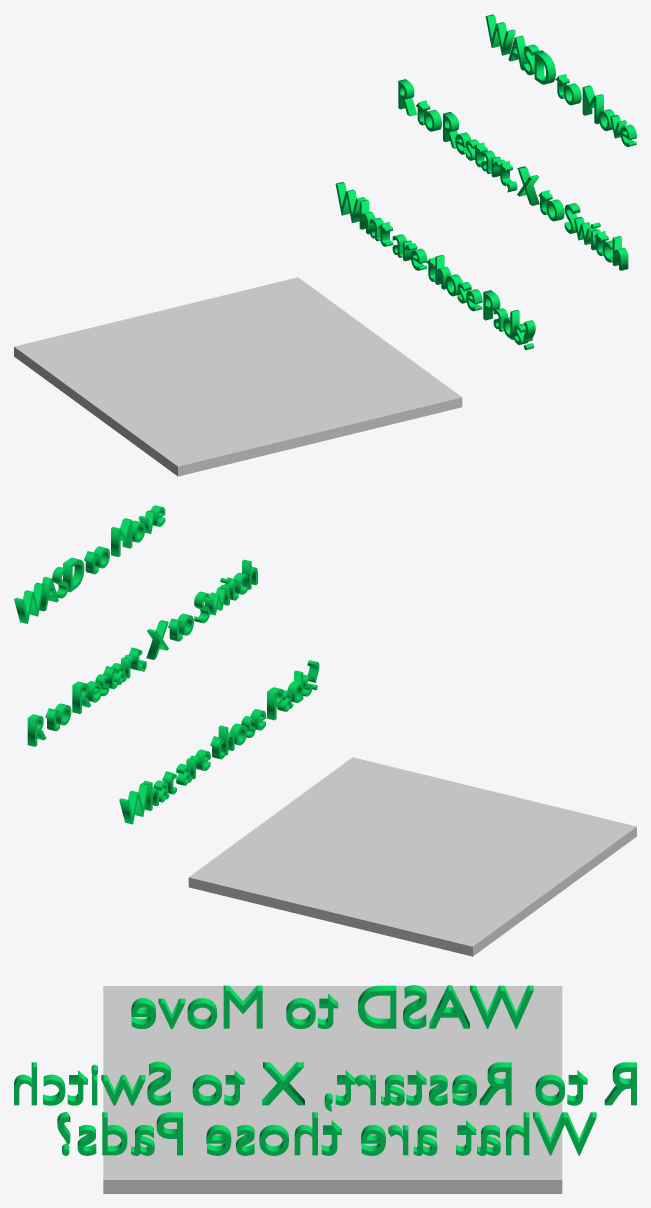
The model's file is level0-Vvty7H70.glb.
3 renders of one model, top to bottom at view 1: azimuth 30°, elevation 25°; view 2: azimuth 150°, elevation 25°; view 3: azimuth 270°, elevation 25°, orthographic. The views are drawn at different scales.
Parts seen in each view (by area): view 1: Cube, Text.002_X, Text.001_X, Text_X; view 2: Cube, Text.002_X, Text.001_X, Text_X; view 3: Cube, Text.002_X, Text.001_X, Text_X.
Boxes of the visible parts, x1=… form: Cube: x1=14, y1=277, x2=462, y2=476; Text.002_X: x1=398, y1=79, x2=628, y2=270; Text.001_X: x1=335, y1=182, x2=535, y2=349; Text_X: x1=485, y1=14, x2=636, y2=146; Cube: x1=188, y1=757, x2=636, y2=956; Text.002_X: x1=27, y1=559, x2=257, y2=746; Text.001_X: x1=119, y1=660, x2=319, y2=824; Text_X: x1=14, y1=505, x2=165, y2=623; Cube: x1=103, y1=986, x2=562, y2=1193; Text.002_X: x1=14, y1=1061, x2=636, y2=1111; Text.001_X: x1=57, y1=1112, x2=596, y2=1155; Text_X: x1=131, y1=985, x2=533, y2=1028.
Size of the model in its own units: 49.5 by 23.77 by 40.71.
